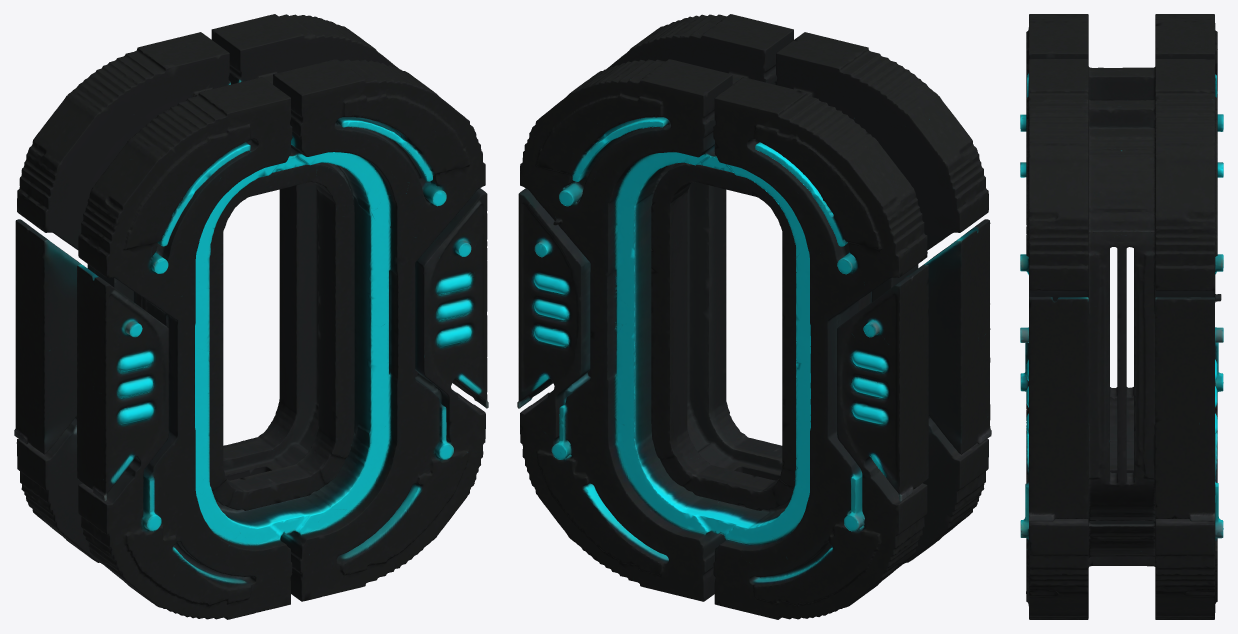
Rendered from Meshy_AI_Neon_Circuit_Mouse_1012042645_texture.glb.
3 renders of one model, left to right at view 1: azimuth 30°, elevation 25°; view 2: azimuth 150°, elevation 25°; view 3: azimuth 270°, elevation 25°, orthographic. The views are drawn at different scales.
Bounding box in the file's own units: 1.51 × 1.9 × 0.6716.
1 material, 1 textured.
